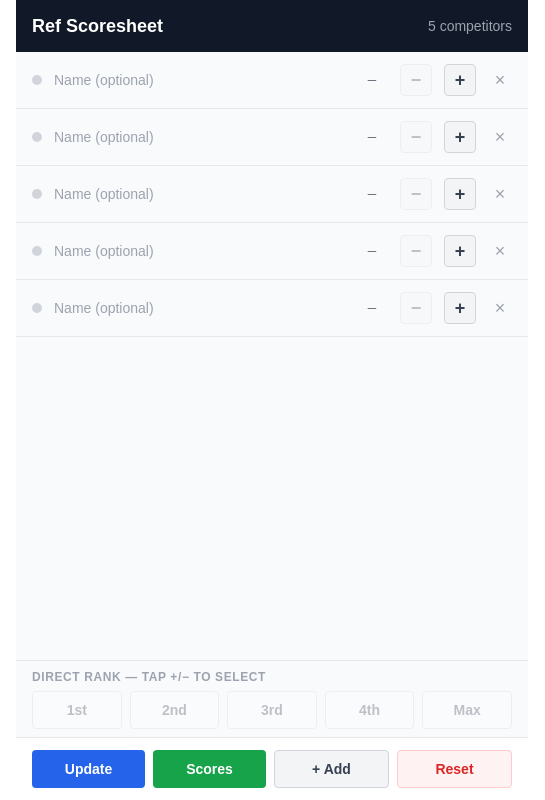
ScoresheetPage › Max button gives last-place ticks (currentMax + 1)
# Give first competitor 3 ticks
Click the button named "increase ticks". click: (460, 80)
box: [444,64,476,96]
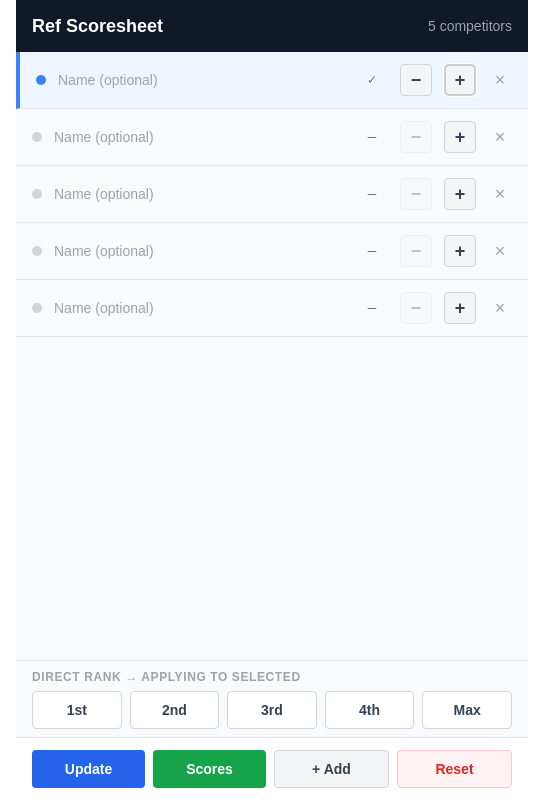
Click the button named "increase ticks". click: (460, 80)
box: [444,64,476,96]
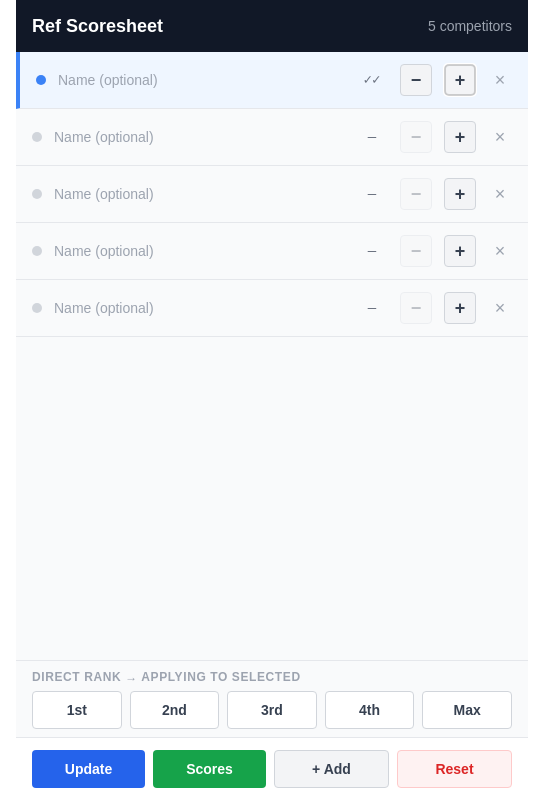
Click the button named "increase ticks". click: (460, 80)
box: [444,64,476,96]
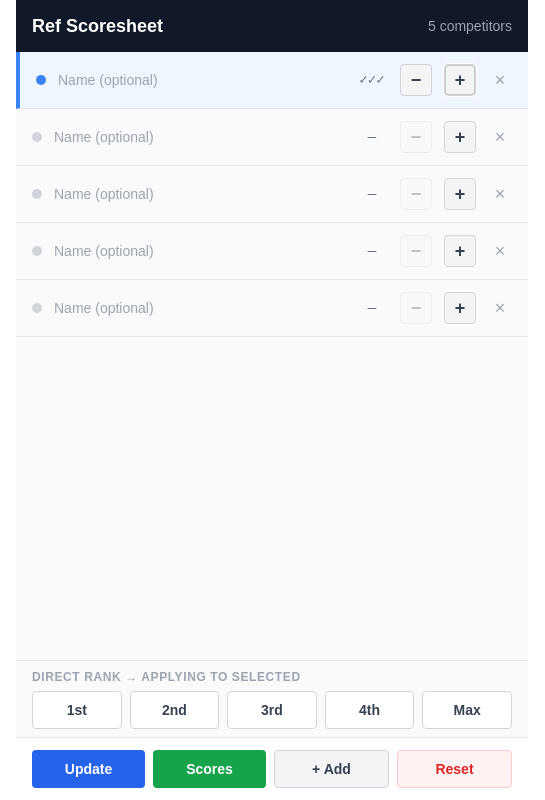
Click the button named "increase ticks". click: (460, 137)
box: [444,121,476,153]
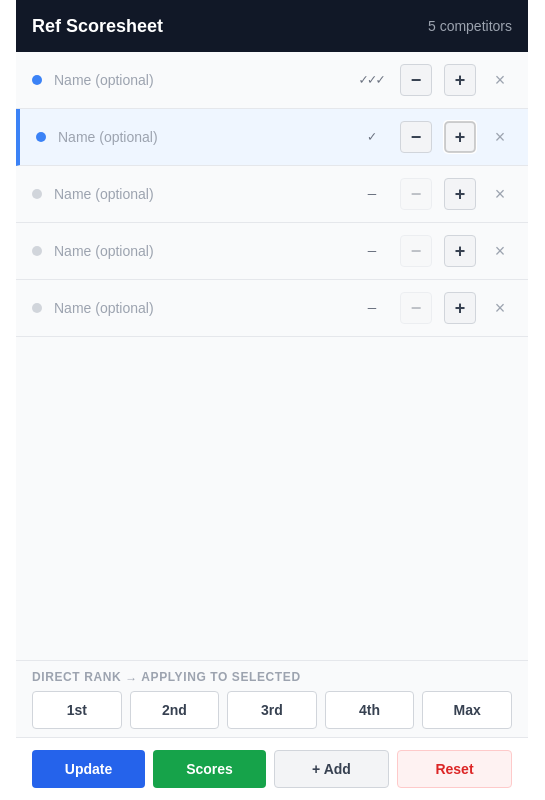
Click the button "Max". click: (467, 710)
box: [422,691,512,729]
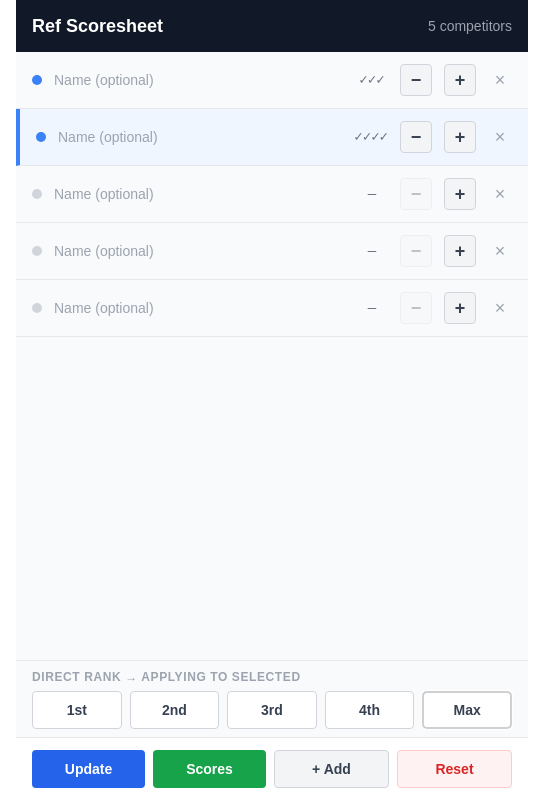
expect the text "✓✓✓✓" is shown: met, box [354,127,388,147]
